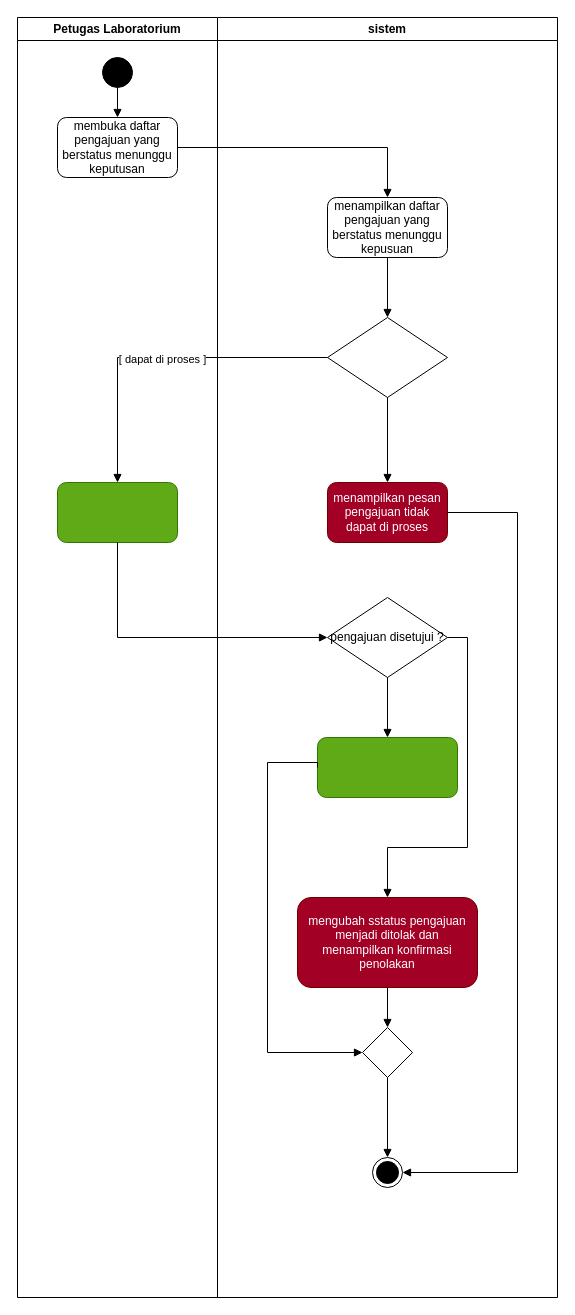
Some shapes in this 575 by 1315 pixel diagram are drawn without their labels. The shapes that lost their labels are listed below. From the top down, each one's centre as x and y in pixels, then its label:
At [387,357]: "pengajuan dapat di proses ?".
At [117,512]: "memilih pengajuan dan menetapkan persetujuan atau penolakan".
At [387,767]: "mengubah status pengajuan menjadi di setujui dan menampilkan konfirmasi".
